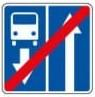road_sign: (0, 0, 94, 95)
